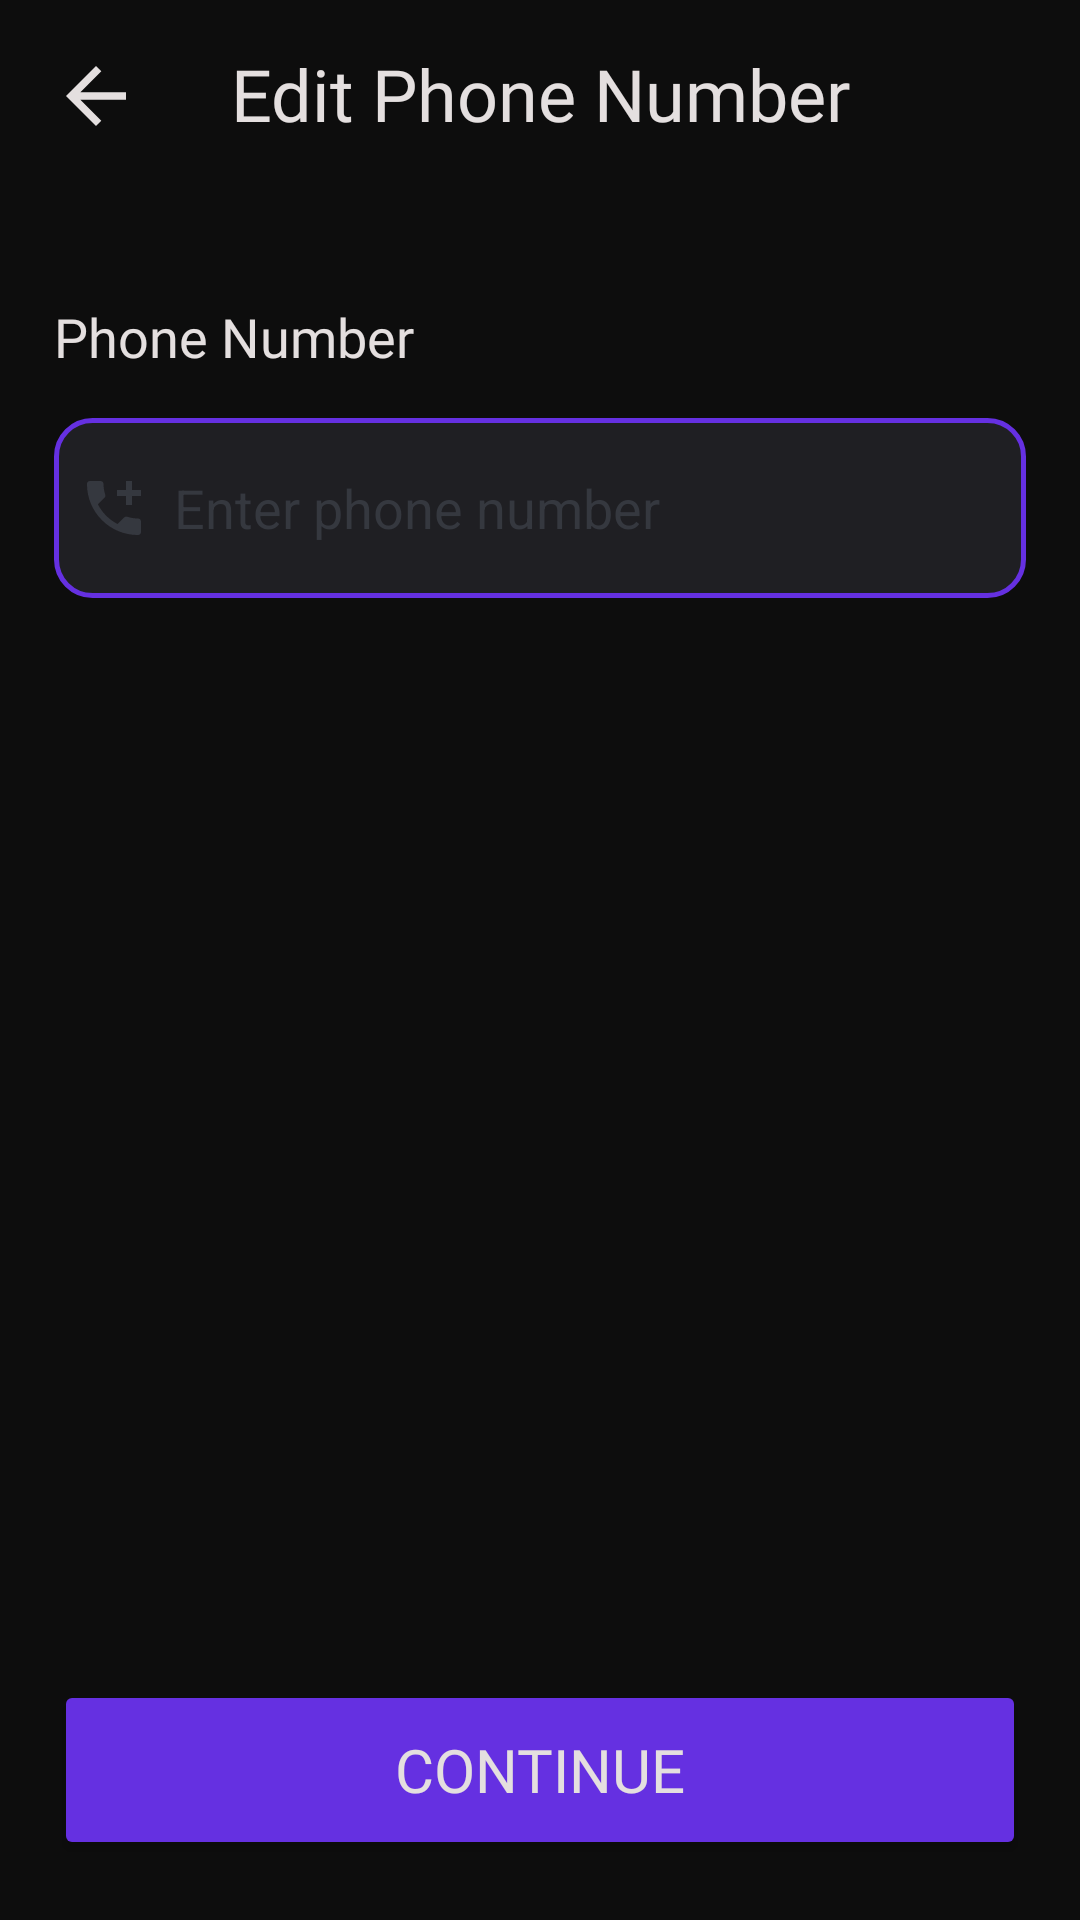

Icons on this 1080 x 1920 Android screen, each with its box as {"left": x1, "top": y1, "right": x2, "bottom": y2}:
arrow back: {"left": 66, "top": 66, "right": 126, "bottom": 126}
